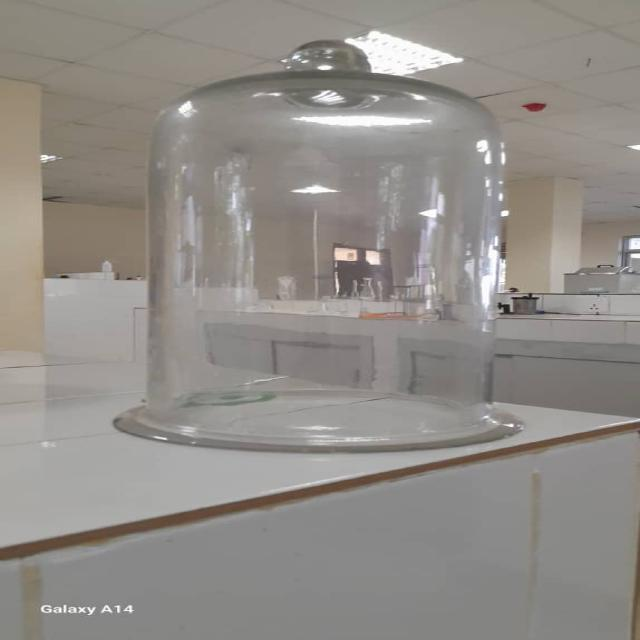Gas Bottle: (110, 43, 538, 454)
